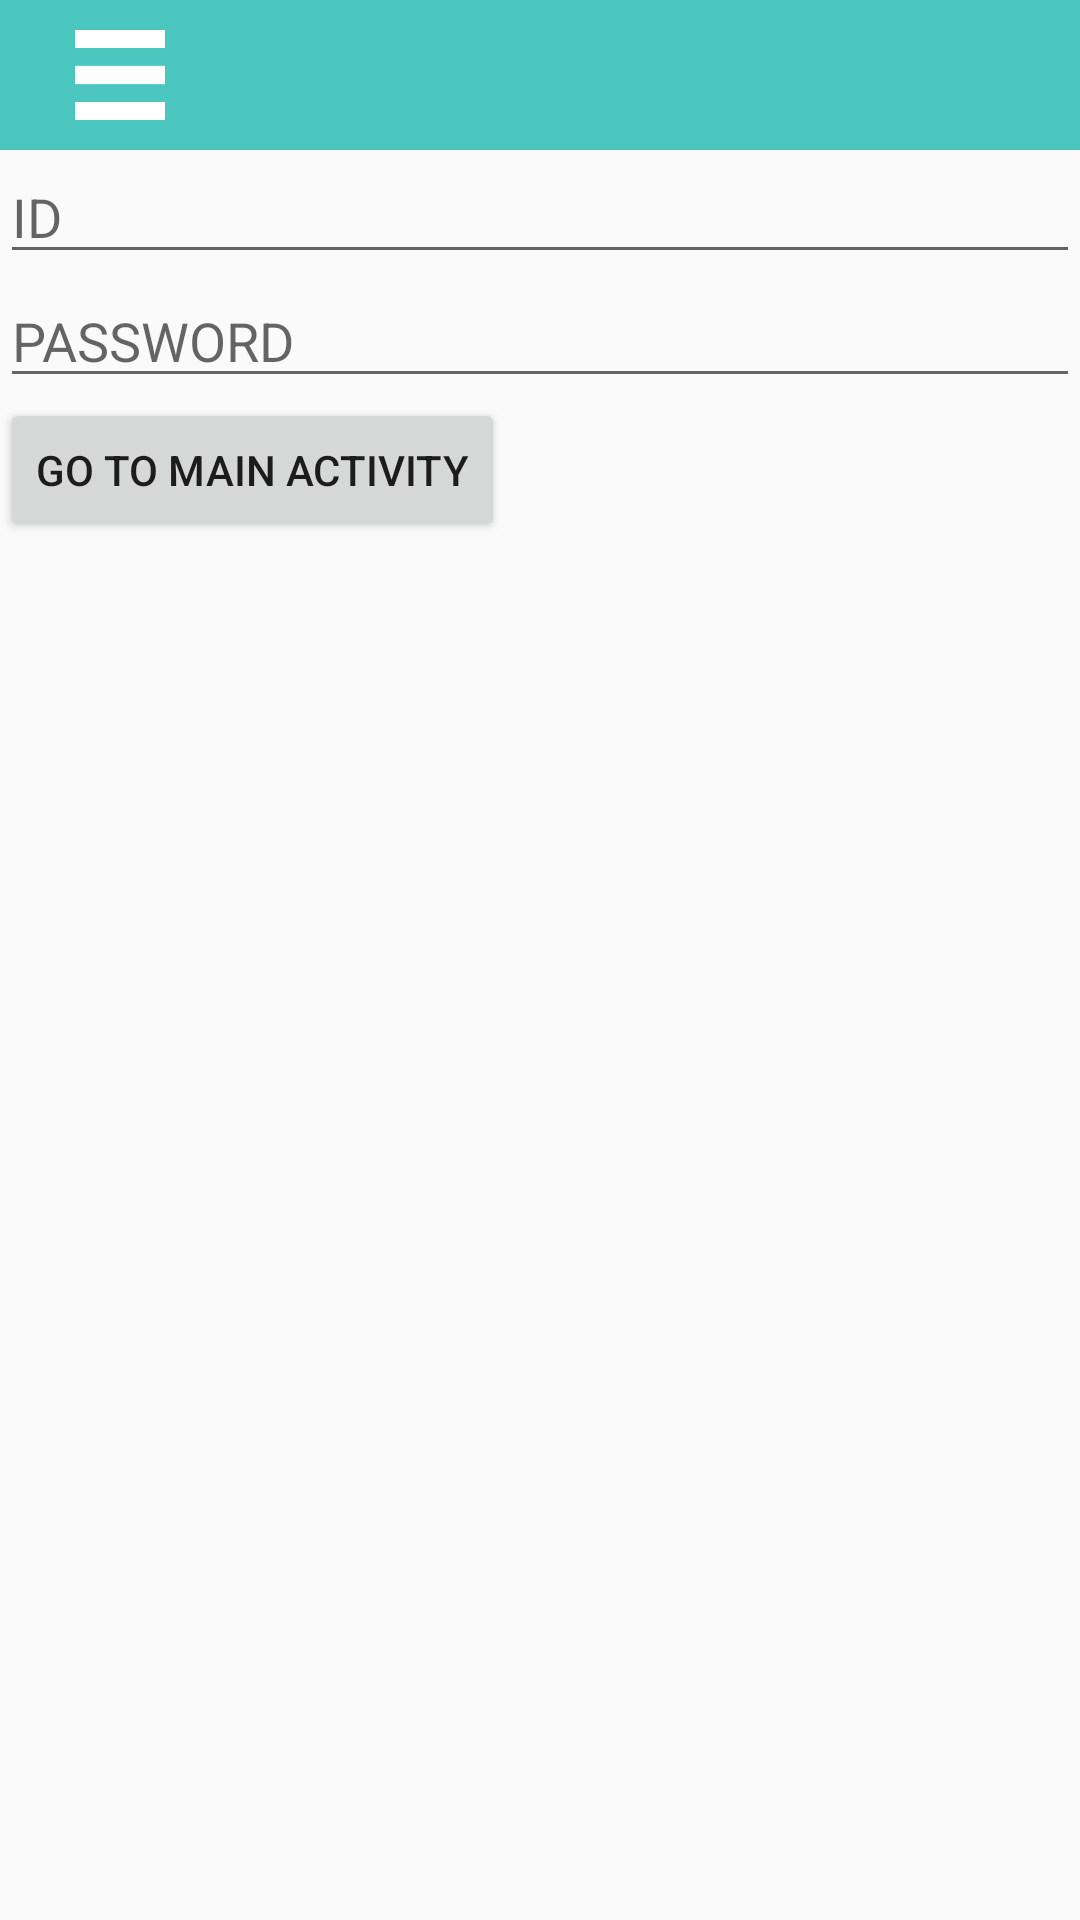

Icon bounding boxes for this 1080 x 1920 phone screenshot, format (x1, y1, x2, y2):
menu: (75, 30, 165, 120)
